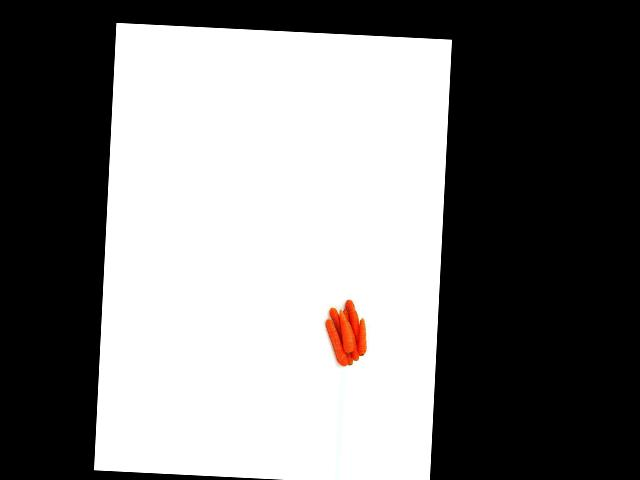carrot: (322, 320, 351, 369)
